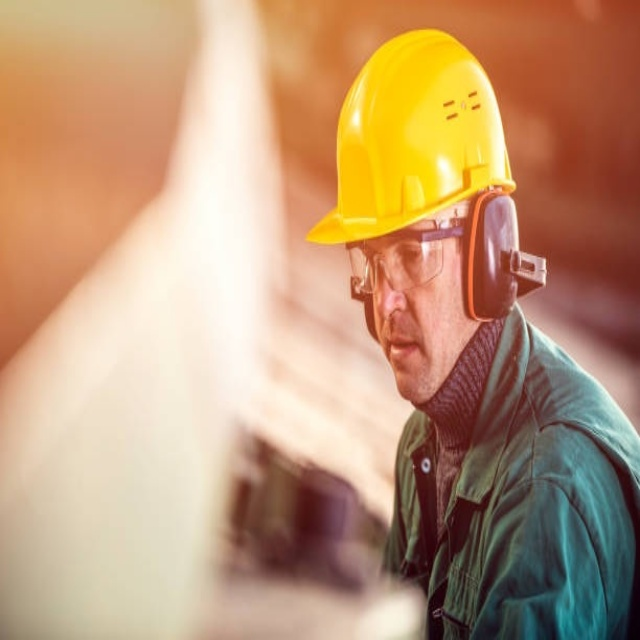Gafas: (348, 219, 473, 295)
Sin_mascara: (379, 315, 436, 394)
